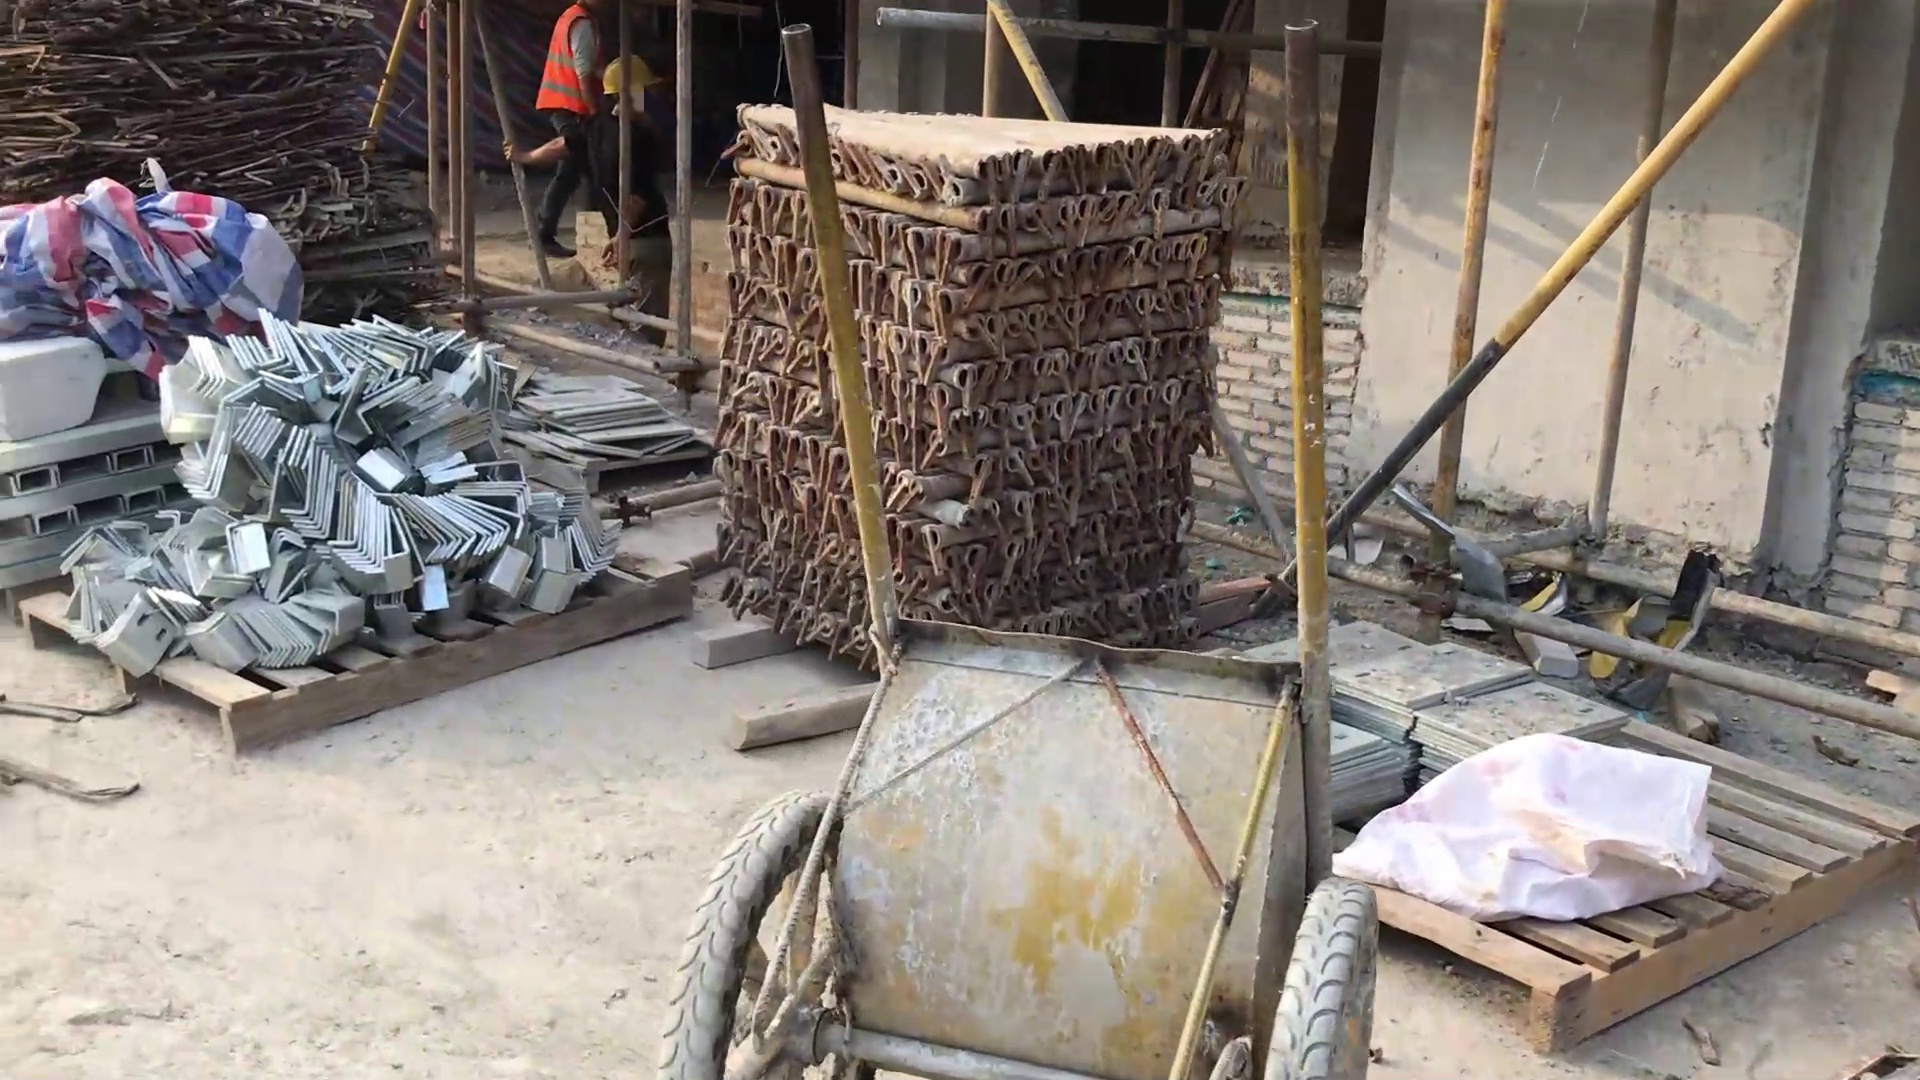handcart: (653, 15, 1385, 1080)
helmet: (597, 50, 668, 99)
person: (499, 51, 672, 345), (531, 1, 603, 259)
scaffold: (715, 95, 1236, 658)
vest: (533, 1, 597, 119)
